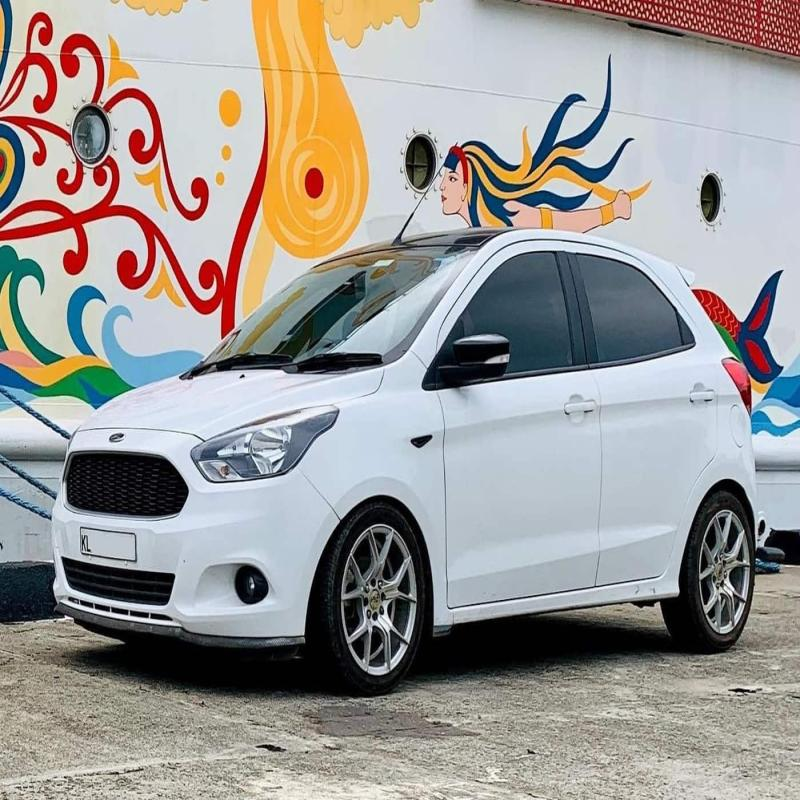car: (8, 179, 764, 665)
